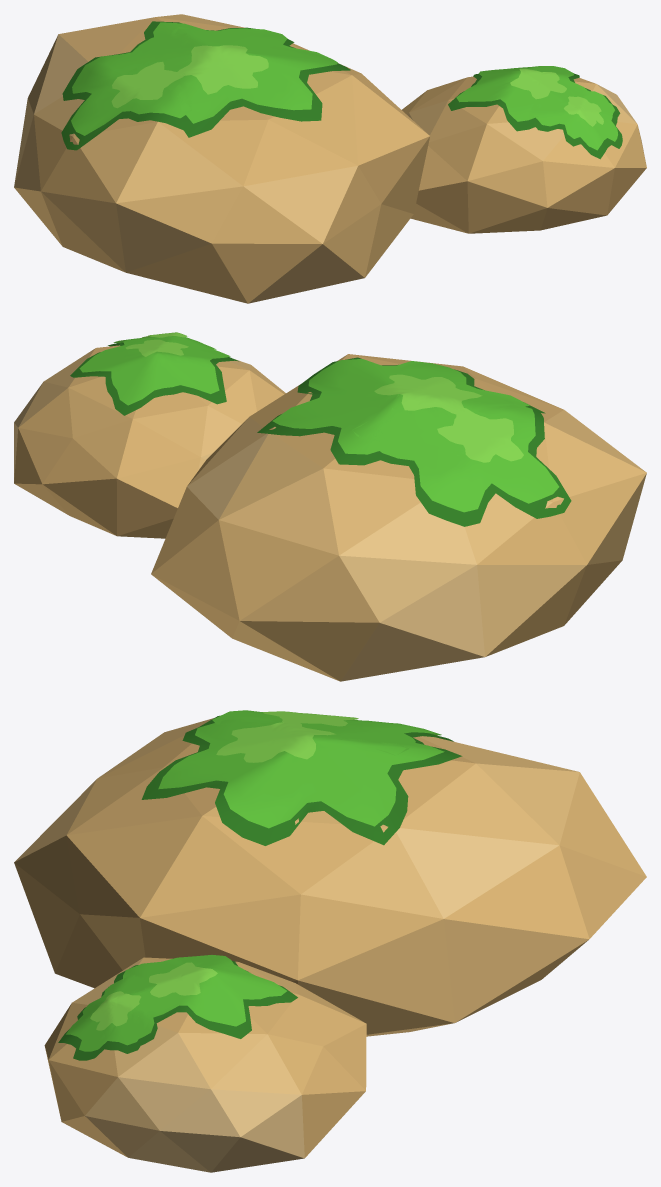
The model's file is rock_6_clover.glb.
3 renders of one model, top to bottom at view 1: azimuth 30°, elevation 25°; view 2: azimuth 150°, elevation 25°; view 3: azimuth 270°, elevation 25°, orthographic. The views are drawn at different scales.
Parts seen in each view (by area): view 1: rock_6_clover; view 2: rock_6_clover; view 3: rock_6_clover.
Boxes of the visible parts, x1=… form: rock_6_clover: x1=14, y1=14, x2=646, y2=303; rock_6_clover: x1=14, y1=332, x2=646, y2=681; rock_6_clover: x1=14, y1=710, x2=646, y2=1172.
Bounding box in the file's own units: 2.68 × 0.8947 × 2.16.
